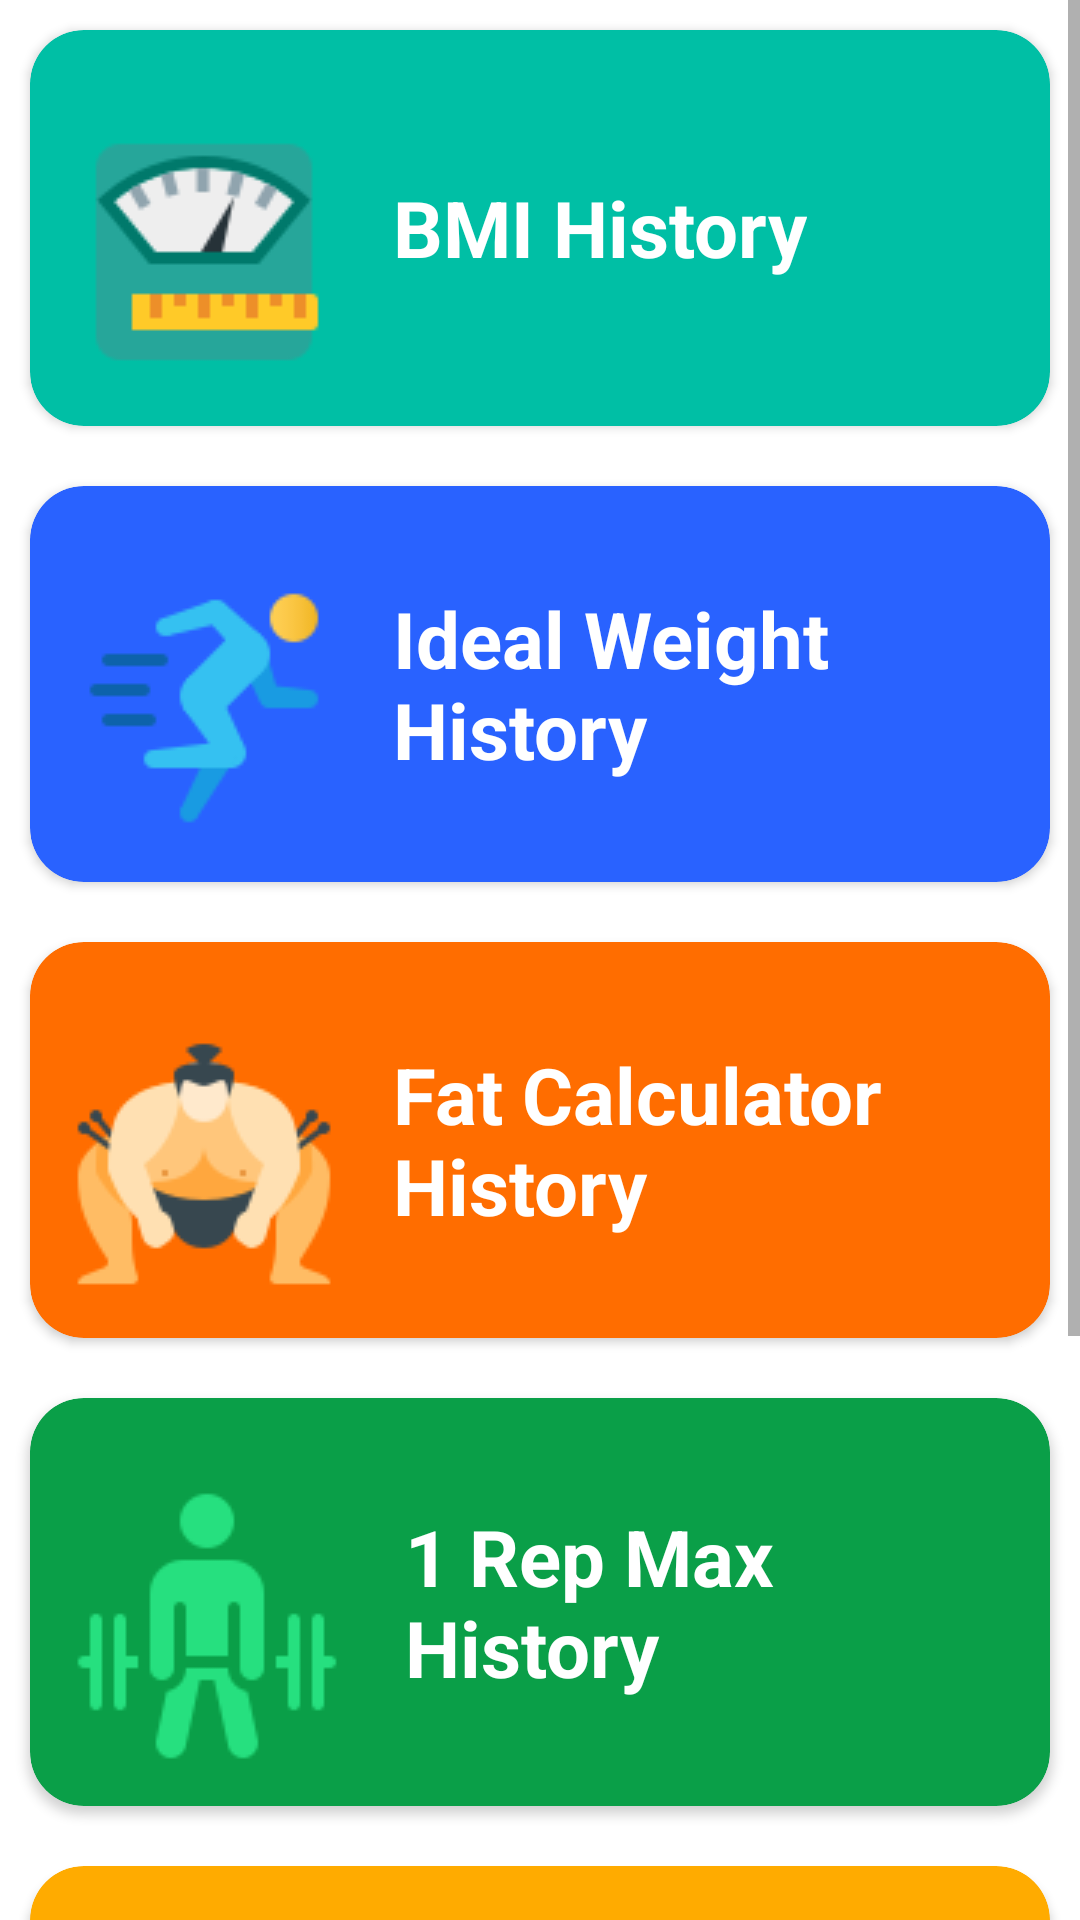

Icons on this 1080 x 1920 Android screen, each with the point to tap as [x,y]:
deadlift: [207,1626]
exercise: [204,707]
